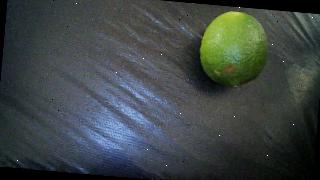DESECHO: (197, 9, 271, 88)
